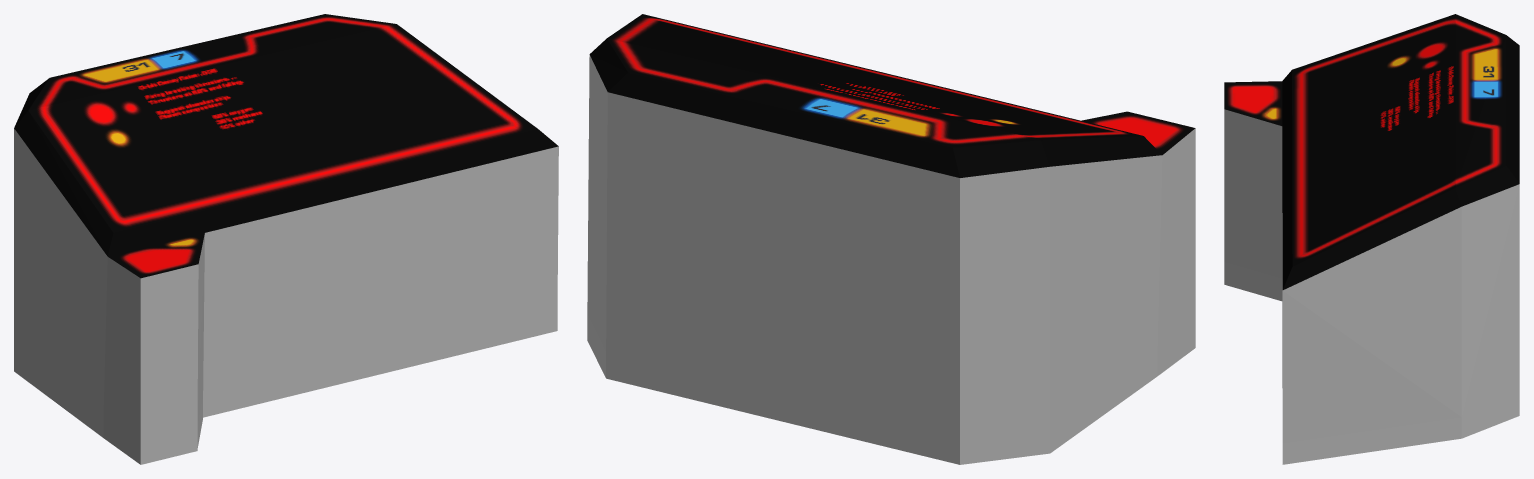
File: control_console_left.FBX
3 views of the same model, side by side, from view 1: azimuth 30°, elevation 25°; view 2: azimuth 150°, elevation 25°; view 3: azimuth 270°, elevation 25° (orthographic). The views are drawn at different scales.
Parts seen in each view (by area): view 1: control_console_left; view 2: control_console_left; view 3: control_console_left.
Boxes of the visible parts, box(x1,y1,x2,y2) form: control_console_left: box(14, 14, 558, 464); control_console_left: box(587, 14, 1195, 464); control_console_left: box(1224, 14, 1519, 464).
Size of the model in its own units: 8740 by 4894 by 5214.
